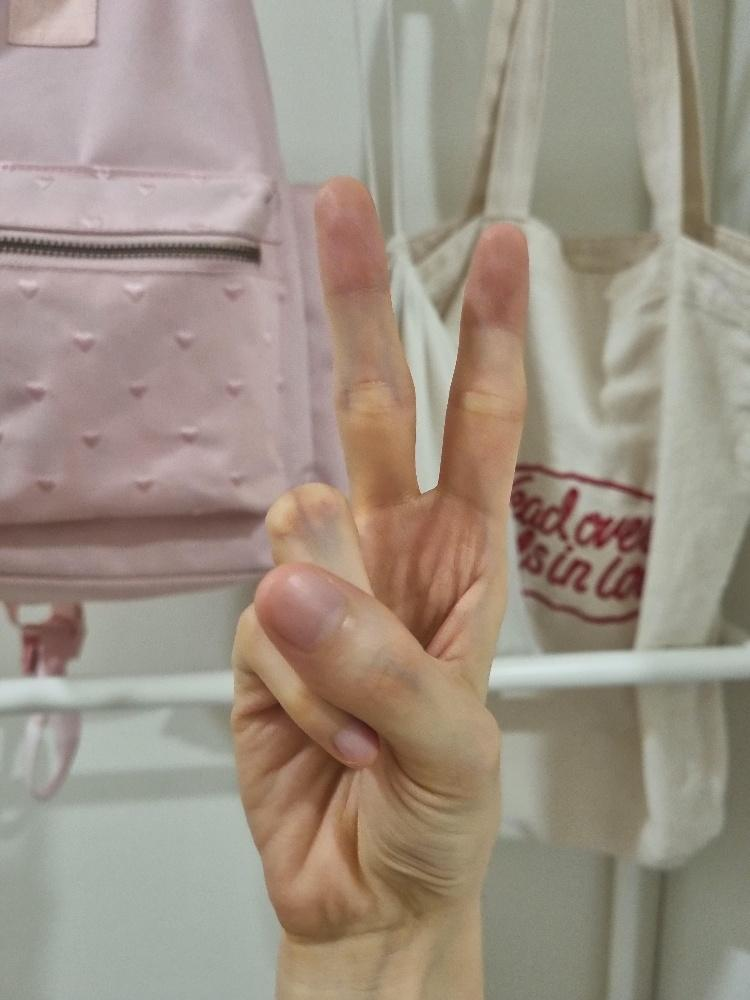v: (228, 175, 531, 941)
